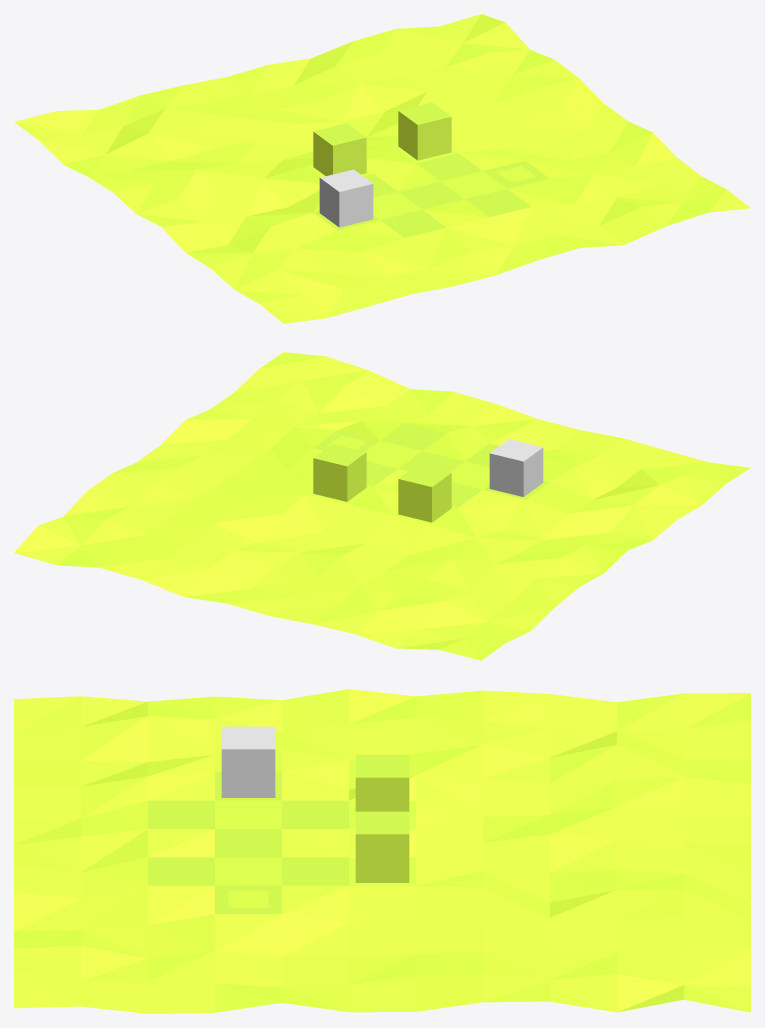
File: Level34.dae
The picture shows the model from 3 angles, top to bottom: view 1: azimuth 30°, elevation 25°; view 2: azimuth 150°, elevation 25°; view 3: azimuth 270°, elevation 25°; orthographic projection. The views are drawn at different scales.
Parts seen in each view (by area): view 1: surface, Blocky, Enemy1, Enemy0; view 2: surface, Blocky, Enemy0, Enemy1; view 3: surface, Blocky, Enemy1, Enemy0.
Part boxes in pixels (x1,y1,x2,y2): surface: [14, 14, 750, 323]; Blocky: [319, 169, 373, 227]; Enemy1: [398, 102, 451, 160]; Enemy0: [313, 123, 366, 175]; surface: [14, 352, 750, 660]; Blocky: [489, 439, 543, 496]; Enemy0: [398, 464, 451, 522]; Enemy1: [313, 444, 366, 501]; surface: [14, 689, 750, 1013]; Blocky: [221, 726, 275, 797]; Enemy1: [355, 811, 409, 882]; Enemy0: [355, 755, 409, 811].
Size of the model in its own units: 11 by 11 by 1.1.
